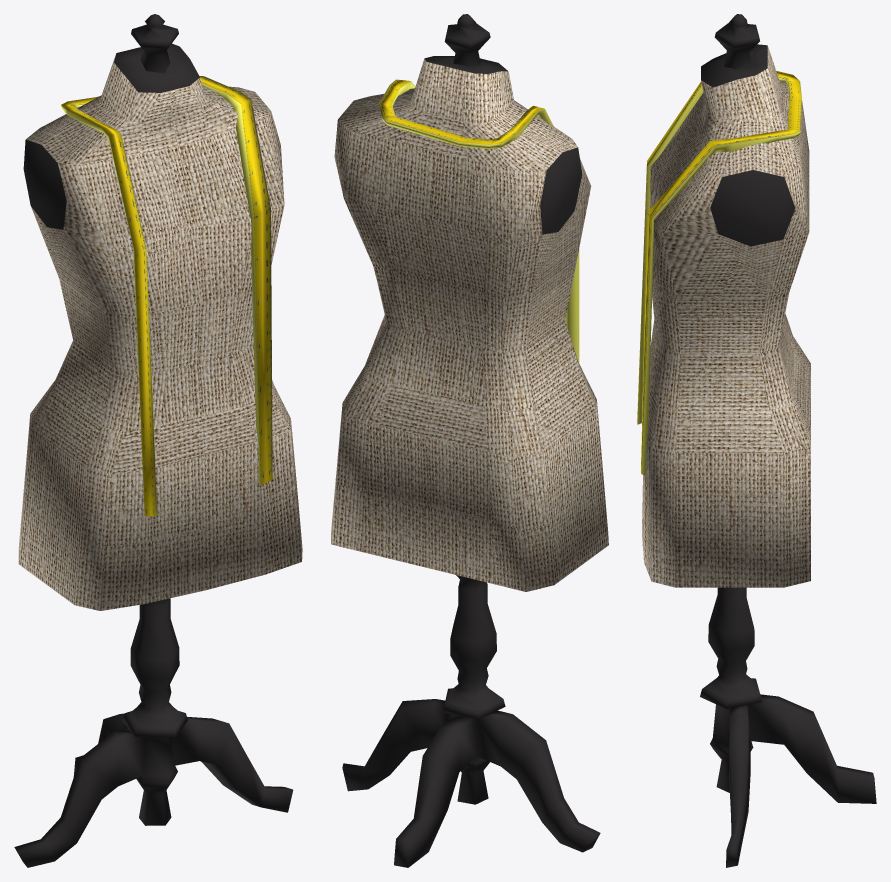
The model's file is MANEQUIM.fbx.
The picture shows the model from 3 angles, left to right: view 1: azimuth 30°, elevation 25°; view 2: azimuth 150°, elevation 25°; view 3: azimuth 270°, elevation 25°; orthographic projection. The views are drawn at different scales.
Parts seen in each view (by area): view 1: Corpo do manequin, base do pé, fita amarela, base superior; view 2: Corpo do manequin, base do pé, fita amarela, base superior; view 3: Corpo do manequin, base do pé, fita amarela, base superior.
Boxes of the visible parts, bbox=[...] form: Corpo do manequin: bbox=[18, 43, 302, 610]; base do pé: bbox=[14, 598, 293, 867]; fita amarela: bbox=[61, 76, 272, 516]; base superior: bbox=[131, 14, 178, 73]; Corpo do manequin: bbox=[331, 56, 608, 591]; base do pé: bbox=[342, 575, 600, 867]; fita amarela: bbox=[378, 79, 579, 362]; base superior: bbox=[444, 14, 490, 66]; Corpo do manequin: bbox=[642, 44, 810, 587]; base do pé: bbox=[700, 587, 876, 867]; fita amarela: bbox=[637, 71, 801, 475]; base superior: bbox=[714, 14, 759, 69].
Size of the model in its own units: 1.41 by 4.11 by 1.12.
4 materials, 2 textured.
